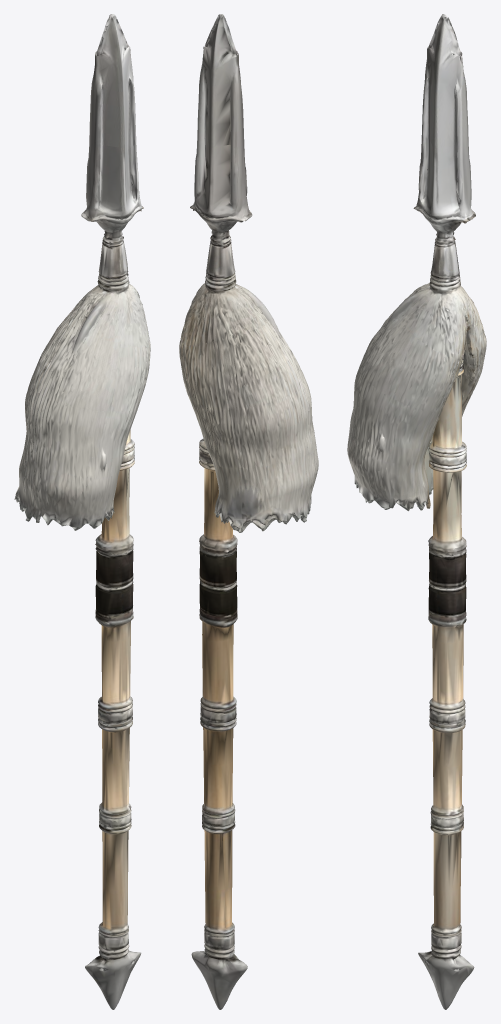
3 views of the same model, side by side, from view 1: azimuth 30°, elevation 25°; view 2: azimuth 150°, elevation 25°; view 3: azimuth 330°, elevation 25° (orthographic).
Parts seen in each view (by area): view 1: tripo_node_7af677fa-650b-4ae1-8dc5-953b5c8f3607; view 2: tripo_node_7af677fa-650b-4ae1-8dc5-953b5c8f3607; view 3: tripo_node_7af677fa-650b-4ae1-8dc5-953b5c8f3607.
Part boxes in pixels (left/top/right/bottom): tripo_node_7af677fa-650b-4ae1-8dc5-953b5c8f3607: left=14, top=14, right=150, bottom=1009; tripo_node_7af677fa-650b-4ae1-8dc5-953b5c8f3607: left=179, top=14, right=318, bottom=1009; tripo_node_7af677fa-650b-4ae1-8dc5-953b5c8f3607: left=347, top=14, right=486, bottom=1009.
Bounding box in the file's own units: 0.1206 × 0.9856 × 0.1047.
1 material, 1 textured.
